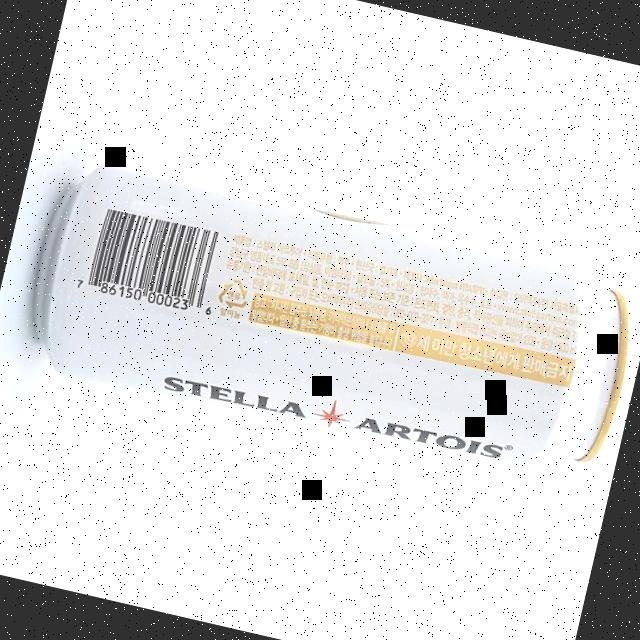can: (13, 146, 640, 497)
